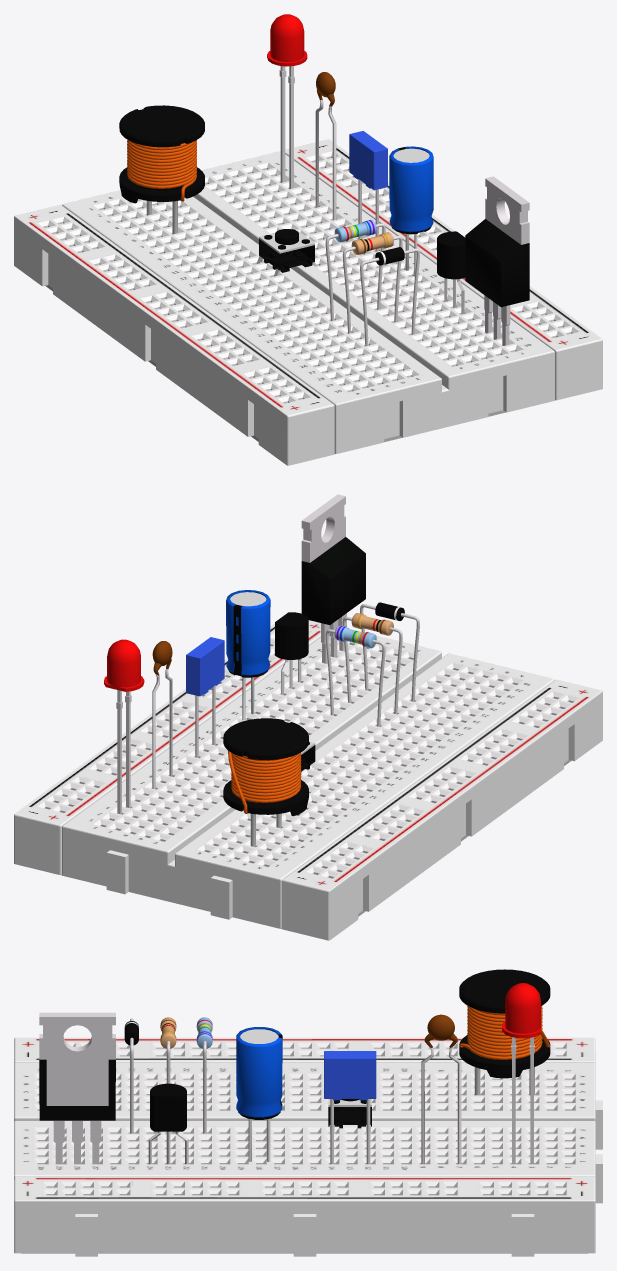
Rendered from breadboard-kit.glb.
3 renders of one model, top to bottom at view 1: azimuth 30°, elevation 25°; view 2: azimuth 150°, elevation 25°; view 3: azimuth 270°, elevation 25°, orthographic. The views are drawn at different scales.
Visible parts, largest first — view 1: Object_76, Object_77, Object_37, Object_70, Object_10, Object_74, Object_39, Object_43, Object_4, Object_6, Object_33, Object_63 (+5 smaller); view 2: Object_76, Object_77, Object_37, Object_70, Object_74, Object_10, Object_39, Object_43, Object_4, Object_33, Object_6, Object_51 (+4 smaller); view 3: Object_76, Object_77, Object_39, Object_70, Object_10, Object_43, Object_74, Object_37, Object_4, Object_33, Object_41, Object_51 (+10 smaller).
Part boxes in pixels (<box>): Object_76: <box>14,139,602,465</box>; Object_77: <box>35,150,580,404</box>; Object_37: <box>465,219,529,307</box>; Object_70: <box>119,105,204,203</box>; Object_10: <box>389,146,433,232</box>; Object_74: <box>127,140,196,201</box>; Object_39: <box>485,176,529,244</box>; Object_43: <box>349,131,387,190</box>; Object_4: <box>267,14,307,66</box>; Object_6: <box>279,66,294,189</box>; Object_33: <box>437,231,465,279</box>; Object_63: <box>259,239,314,272</box>; Object_76: <box>14,620,602,940</box>; Object_77: <box>35,631,581,879</box>; Object_37: <box>301,537,365,624</box>; Object_70: <box>223,718,308,816</box>; Object_74: <box>228,750,301,813</box>; Object_10: <box>226,590,270,675</box>; Object_39: <box>301,494,345,562</box>; Object_43: <box>186,637,224,696</box>; Object_4: <box>104,639,144,691</box>; Object_33: <box>275,612,308,659</box>; Object_6: <box>116,690,131,814</box>; Object_51: <box>152,667,172,789</box>; Object_76: <box>14,1037,602,1256</box>; Object_77: <box>32,1042,577,1195</box>; Object_39: <box>39,1012,115,1105</box>; Object_70: <box>459,969,550,1078</box>; Object_10: <box>236,1027,282,1117</box>; Object_43: <box>324,1051,376,1100</box>; Object_74: <box>459,1006,550,1059</box>; Object_37: <box>39,1059,115,1120</box>; Object_4: <box>502,983,540,1038</box>; Object_33: <box>150,1083,186,1131</box>; Object_41: <box>53,1120,101,1164</box>; Object_51: <box>421,1045,461,1164</box>.
Size of the model in its own units: 0.0542 by 0.0353 by 0.081.
5 materials, 5 textured.
